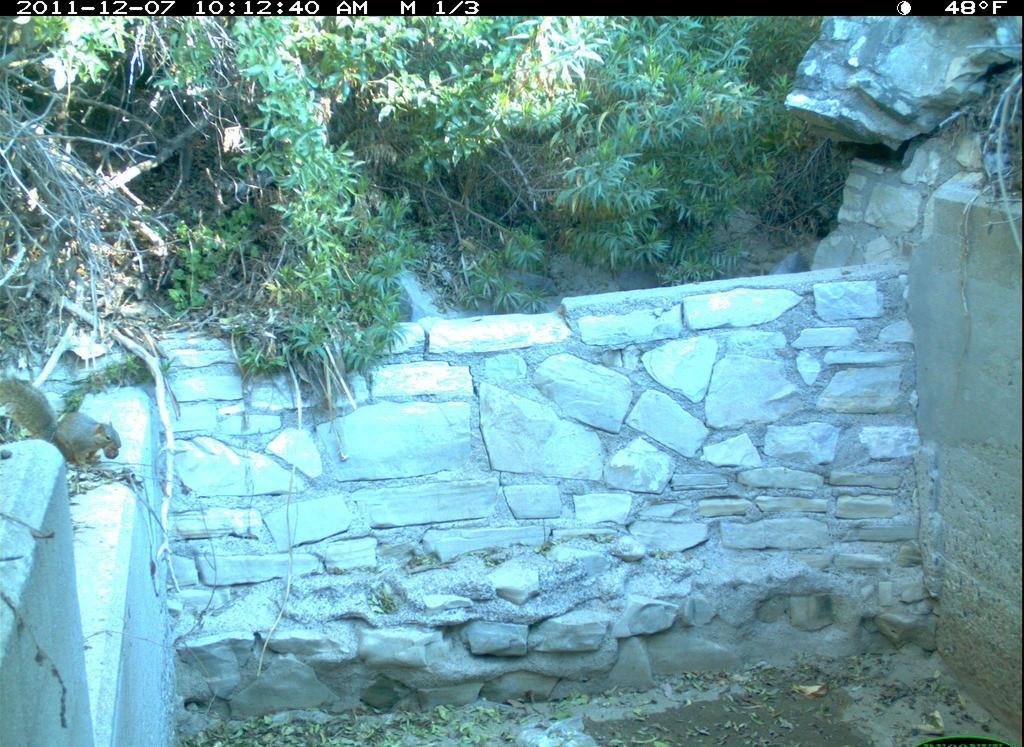squirrel: (1, 368, 126, 489)
